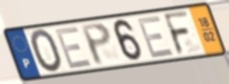6: (112, 17, 144, 64)
E: (53, 24, 94, 71), (135, 14, 176, 60)
F: (161, 9, 193, 57)
O: (29, 28, 64, 75)
P: (79, 21, 114, 67)
